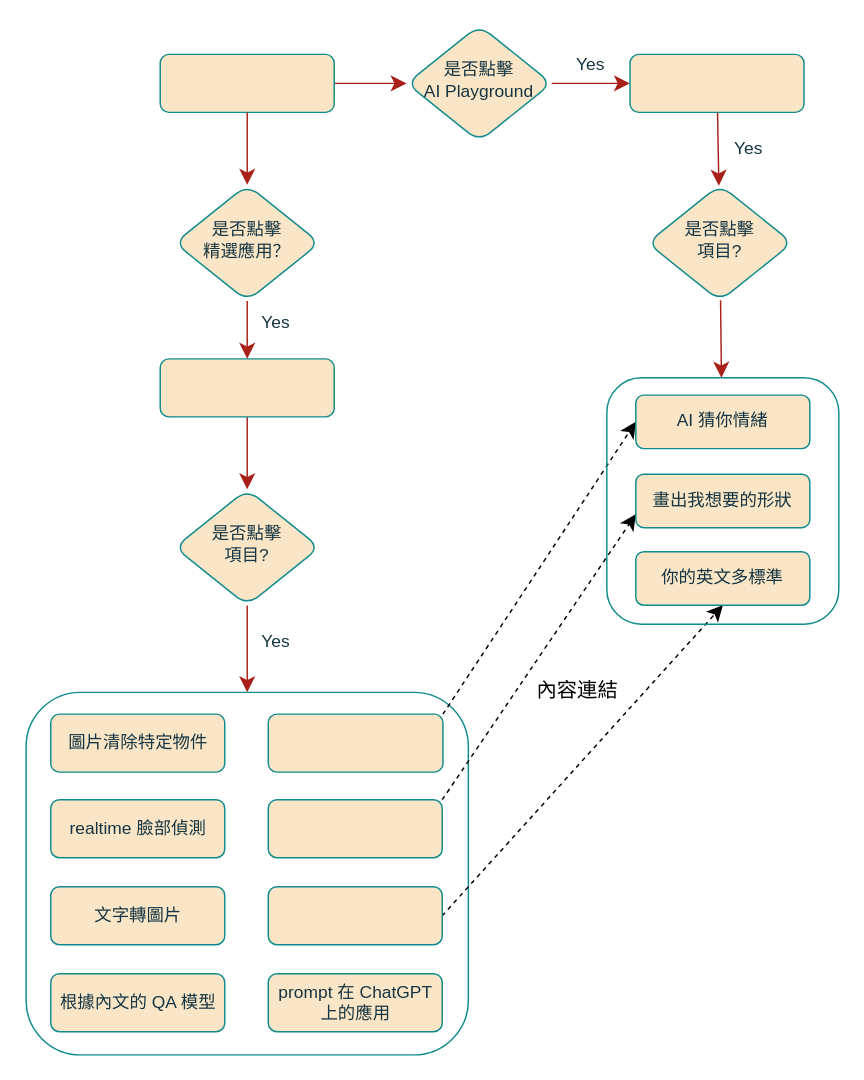
Some shapes in this 864 by 1080 pixel diagram are drawn without their labels. The centre of each missing label's shape, as x and y in pixels:
"圖片分類" goes at [354,828].
"應用列表頁" goes at [246,387].
"臉部分析" goes at [355,742].
"透過 AI 技術整合的 遊戲列表頁" goes at [716,82].
"音訊轉文字(英文)" goes at [354,915].
"首頁" goes at [246,82].
